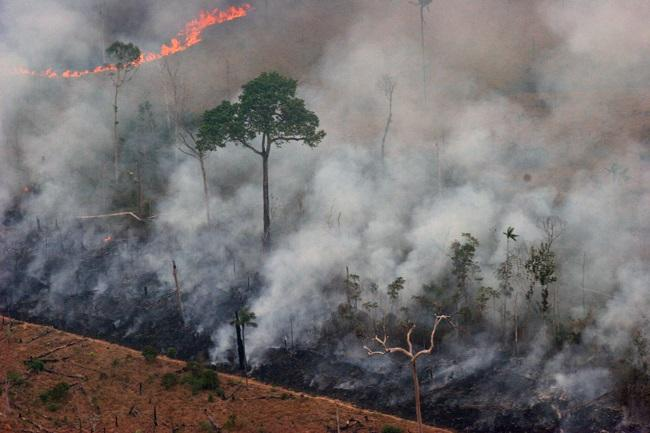fire: (186, 6, 253, 27), (33, 64, 96, 80), (158, 41, 193, 61)
smoke: (381, 6, 650, 230), (274, 150, 354, 263)
